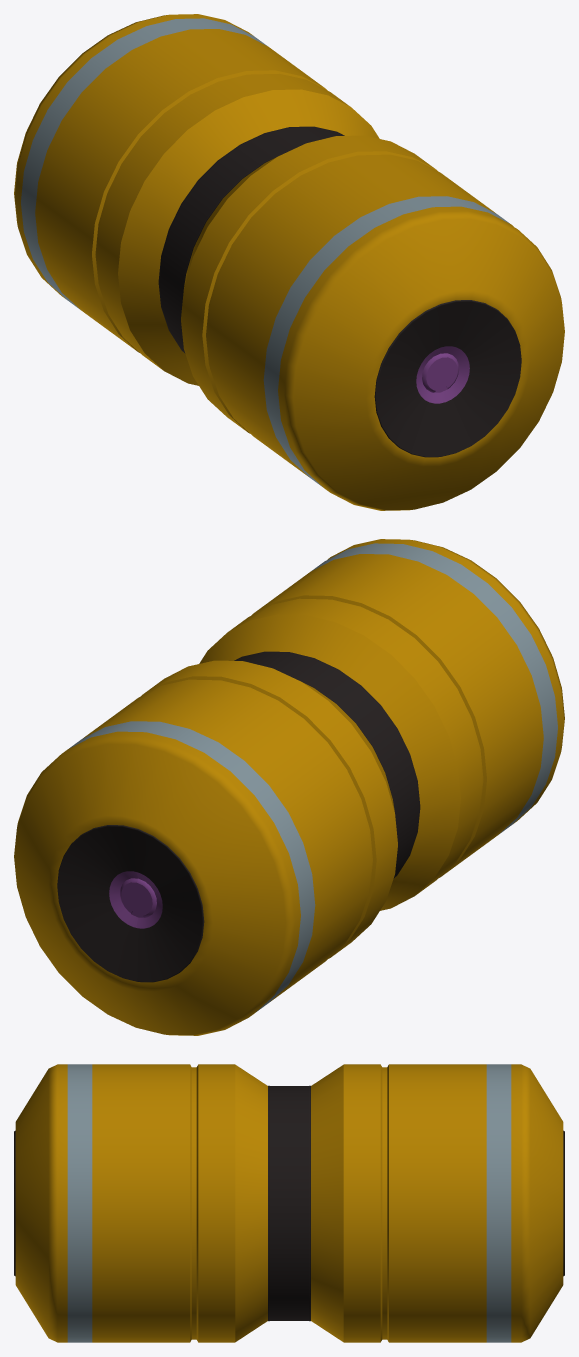
Rendered from env_building_tank_lod1.fbx.
3 views of the same model, one above another, from view 1: azimuth 30°, elevation 25°; view 2: azimuth 150°, elevation 25°; view 3: azimuth 270°, elevation 25° (orthographic). The views are drawn at different scales.
Visible parts, largest first — view 1: env_building_tank_lod1; view 2: env_building_tank_lod1; view 3: env_building_tank_lod1.
Part boxes in pixels (bbox=[...]): env_building_tank_lod1: bbox=[14, 14, 564, 510]; env_building_tank_lod1: bbox=[14, 539, 564, 1035]; env_building_tank_lod1: bbox=[14, 1064, 564, 1342].
Size of the model in its own units: 247 by 246 by 489.
